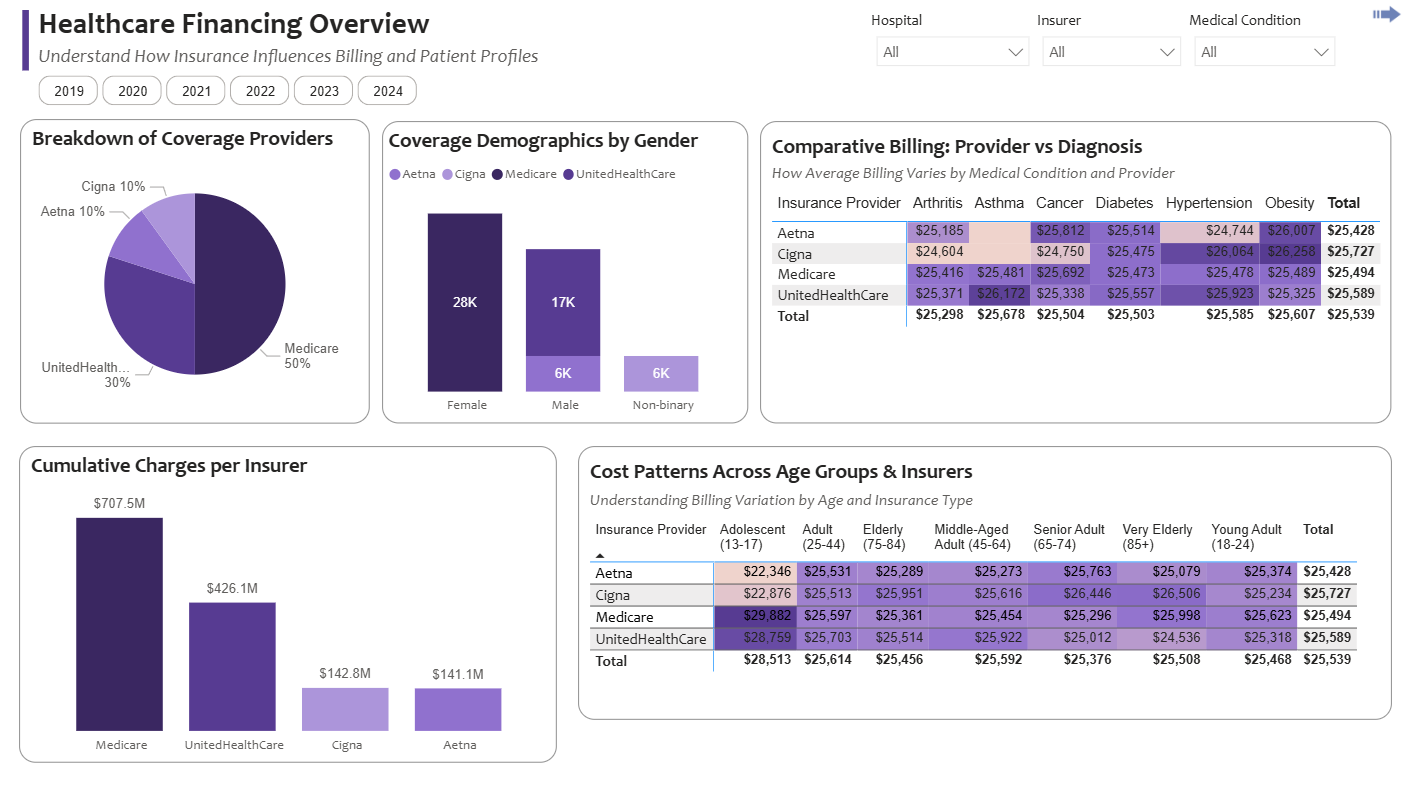

Layout of this report page (visuals, bound fields, positions):
{"tool":"powerbi","page":{"name":"Insurance","canvas":[1280,720],"ordinal":4},"visuals":[{"type":"textbox","title":"Healthcare Financing Overview","box":[30,0,476,64],"z":0},{"type":"pieChart","title":"Breakdown of Coverage Providers","fields":{"Category":["Healthcare.Insurance Provider"],"Y":["Healthcare.Total Patients"]},"box":[18,108,318,277],"z":1000},{"type":"pivotTable","title":"Cost Patterns Across Age Groups & Insurers","fields":{"Rows":["Healthcare.Insurance Provider"],"Values":["Avg(Healthcare.Billing Amount)"],"Columns":["Healthcare.Age Group"]},"box":[525,405,740,249],"z":2000},{"type":"pivotTable","title":"Comparative Billing: Provider vs Diagnosis","fields":{"Rows":["Healthcare.Insurance Provider"],"Columns":["Healthcare.Medical Condition"],"Values":["Avg(Healthcare.Billing Amount)"]},"box":[691,110,574,275],"z":3000},{"type":"clusteredColumnChart","title":"Cumulative Charges per Insurer","fields":{"Category":["Healthcare.Insurance Provider"],"Y":["Sum(Healthcare.Billing Amount)"]},"box":[17,405,489,288],"z":4000},{"type":"columnChart","title":"Coverage Demographics by Gender","fields":{"Category":["Healthcare.Gender"],"Y":["Healthcare.Total Patients"],"Series":["Healthcare.Insurance Provider"]},"box":[347,110,333,275],"z":5000},{"type":"shape","box":[17,9,12,55],"z":6000},{"type":"advancedSlicerVisual","title":"Filter by year","fields":{"Values":["Healthcare.Start Year.Variation.Date Hierarchy.Year"]},"box":[30,64,359,37],"z":7000},{"type":"image","box":[1240,0,41,26],"z":8000},{"type":"group","id":"g1","title":"Group 4","box":[791,9,429,57],"z":9000},{"type":"slicer","title":"Hospital","fields":{"Values":["Healthcare.Hospital"]},"box":[791,9,151,57],"z":11000,"group":"g1"},{"type":"slicer","title":"Insurer","fields":{"Values":["Healthcare.Insurance Provider"]},"box":[942,9,138,57],"z":12000,"group":"g1"},{"type":"slicer","title":"Medical Condition","fields":{"Values":["Healthcare.Medical Condition"]},"box":[1080,9,140,57],"z":13000,"group":"g1"}]}

Visuals, with their boxes in screenshot pixels (x1, y1, x2, y2), scaled from the page's 1280x720 canvas onto the 1406x790 screenshot:
"Healthcare Financing Overview" textbox: x1=33, y1=0, x2=556, y2=70
"Breakdown of Coverage Providers" pieChart: x1=20, y1=119, x2=369, y2=422
"Cost Patterns Across Age Groups & Insurers" pivotTable: x1=577, y1=444, x2=1390, y2=718
"Comparative Billing: Provider vs Diagnosis" pivotTable: x1=759, y1=121, x2=1390, y2=422
"Cumulative Charges per Insurer" clusteredColumnChart: x1=19, y1=444, x2=556, y2=760
"Coverage Demographics by Gender" columnChart: x1=381, y1=121, x2=747, y2=422
shape: x1=19, y1=10, x2=32, y2=70
"Filter by year" advancedSlicerVisual: x1=33, y1=70, x2=427, y2=111
image: x1=1362, y1=0, x2=1405, y2=29
"Group 4" group: x1=869, y1=10, x2=1340, y2=72
"Hospital" slicer: x1=869, y1=10, x2=1035, y2=72
"Insurer" slicer: x1=1035, y1=10, x2=1186, y2=72
"Medical Condition" slicer: x1=1186, y1=10, x2=1340, y2=72
